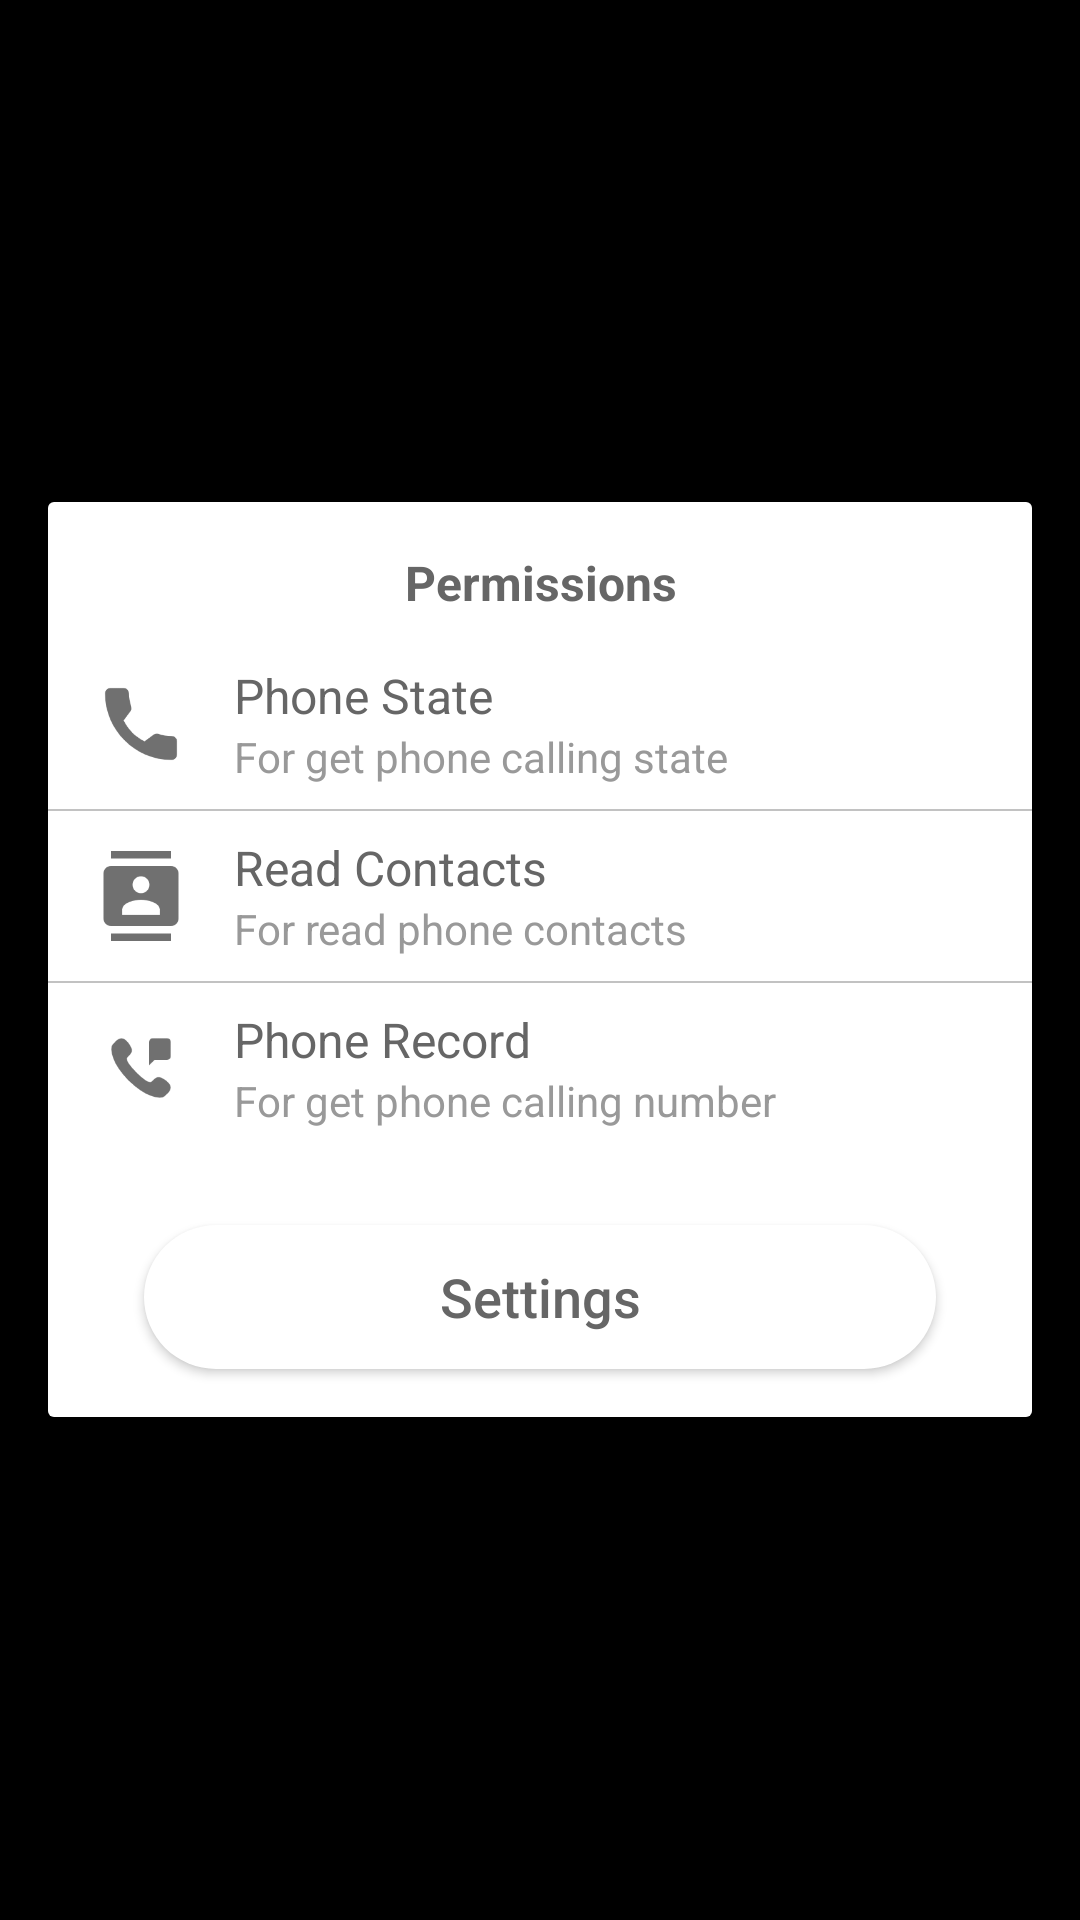

Where to tap for icons on this 1080w x 1920h app screen, as point (x, y):
permission call: point (141, 724)
permission contacts: point (141, 896)
